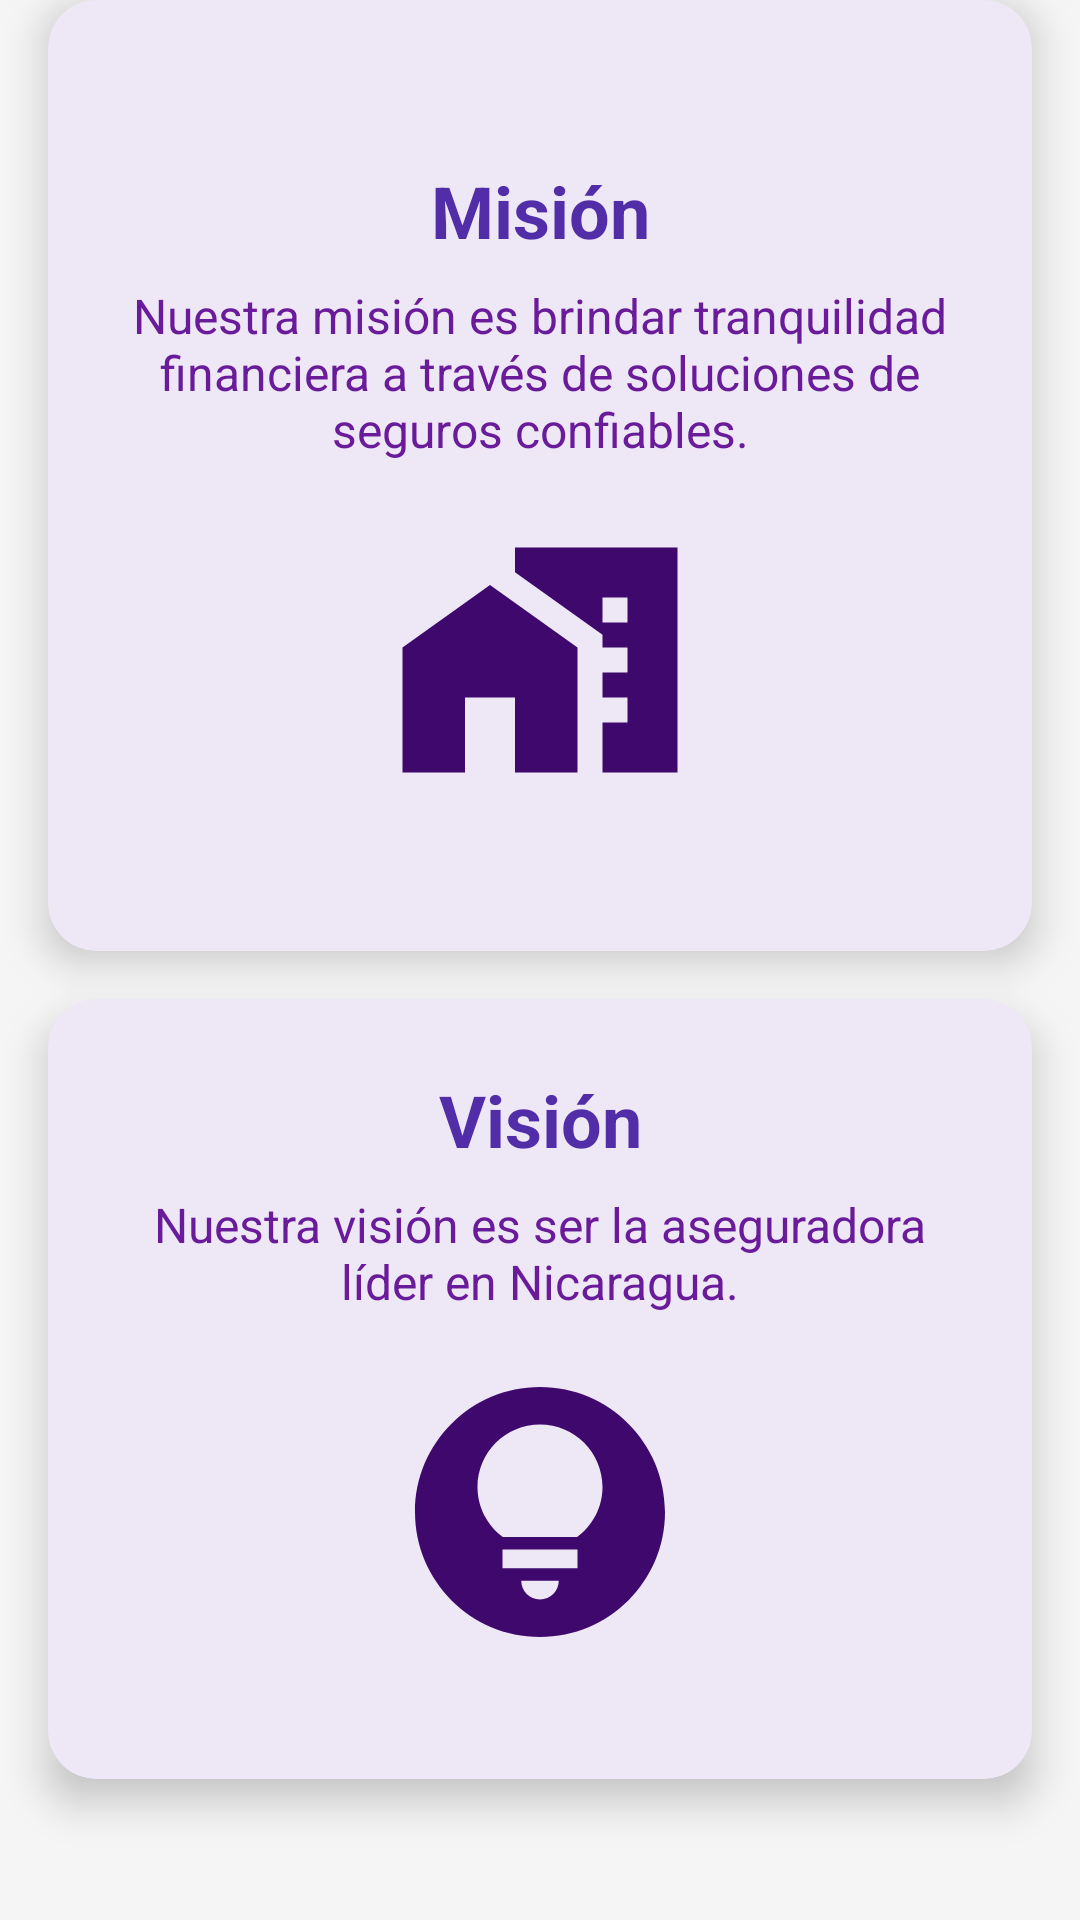

Icon bounding boxes for this 1080x1920 phone screenshot, format (x1, y1, x2, y2):
home work: (402, 547, 678, 773)
lightbulb circle: (415, 1387, 665, 1637)
